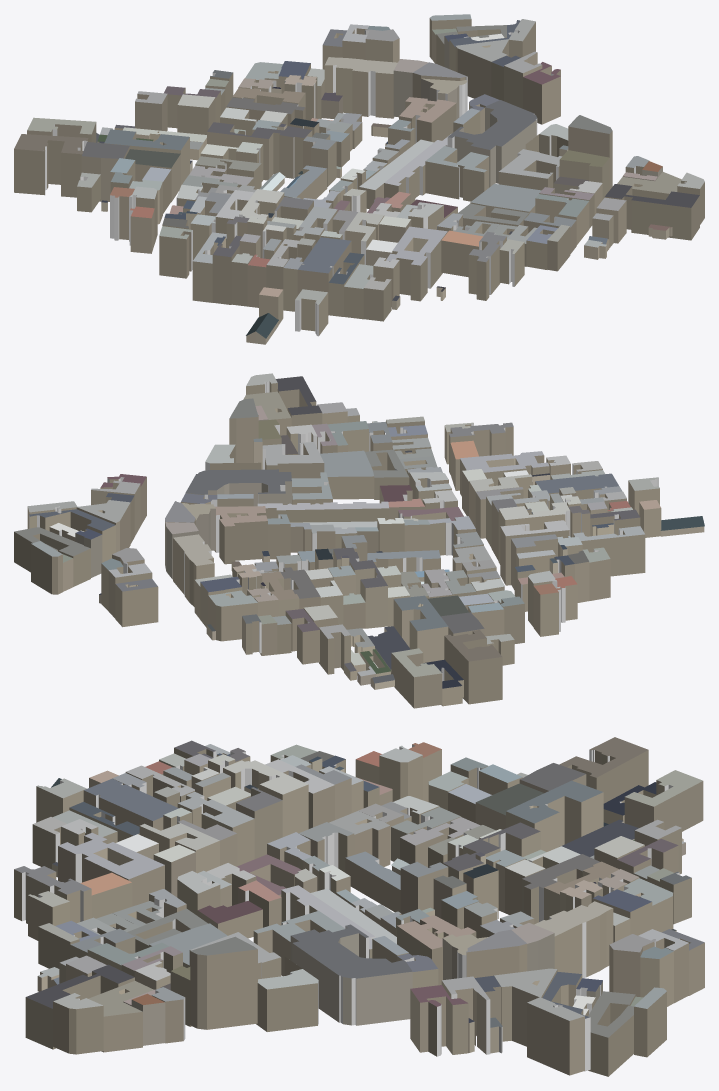
3 renders of one model, top to bottom at view 1: azimuth 30°, elevation 25°; view 2: azimuth 150°, elevation 25°; view 3: azimuth 270°, elevation 25°, orthographic. The views are drawn at different scales.
Parts seen in each view (by area): view 1: tuile; view 2: tuile; view 3: tuile.
Boxes of the visible parts, x1,y1,x2,y2 form: tuile: (14,14,704,344); tuile: (14,373,704,708); tuile: (14,737,704,1076).
Size of the model in its own units: 288 by 43.46 by 274.
